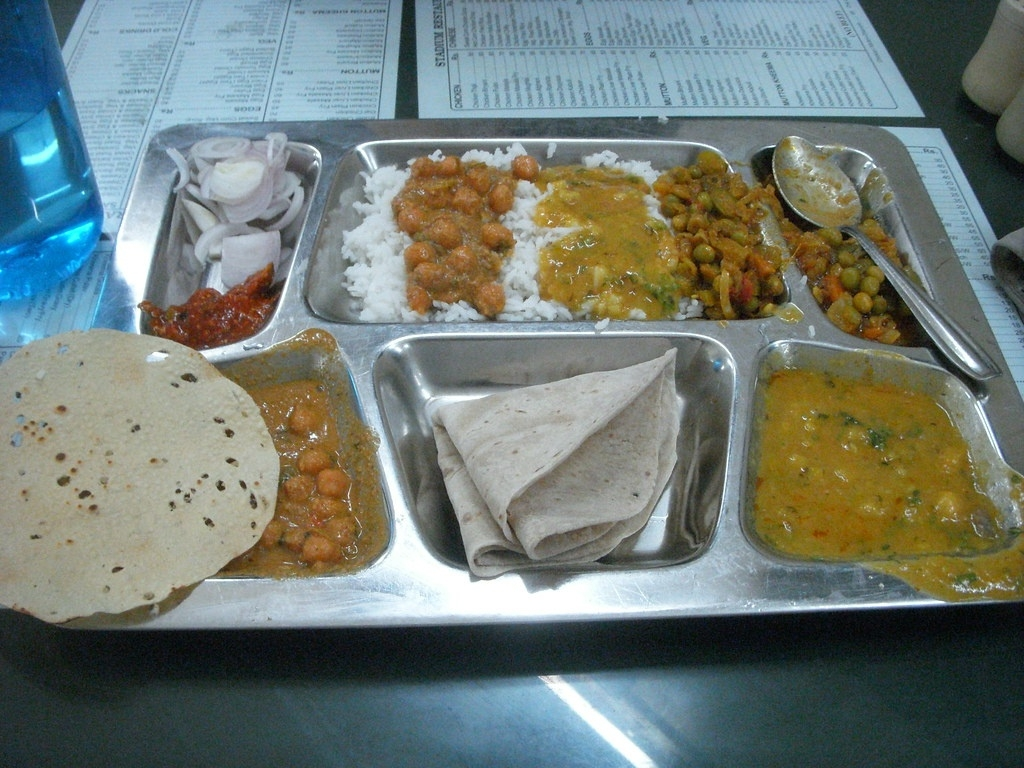bowl: (398, 340, 726, 605), (9, 318, 279, 615), (329, 137, 672, 335), (748, 348, 990, 580), (680, 135, 923, 347), (254, 356, 386, 581), (167, 141, 303, 277), (135, 281, 278, 347)
